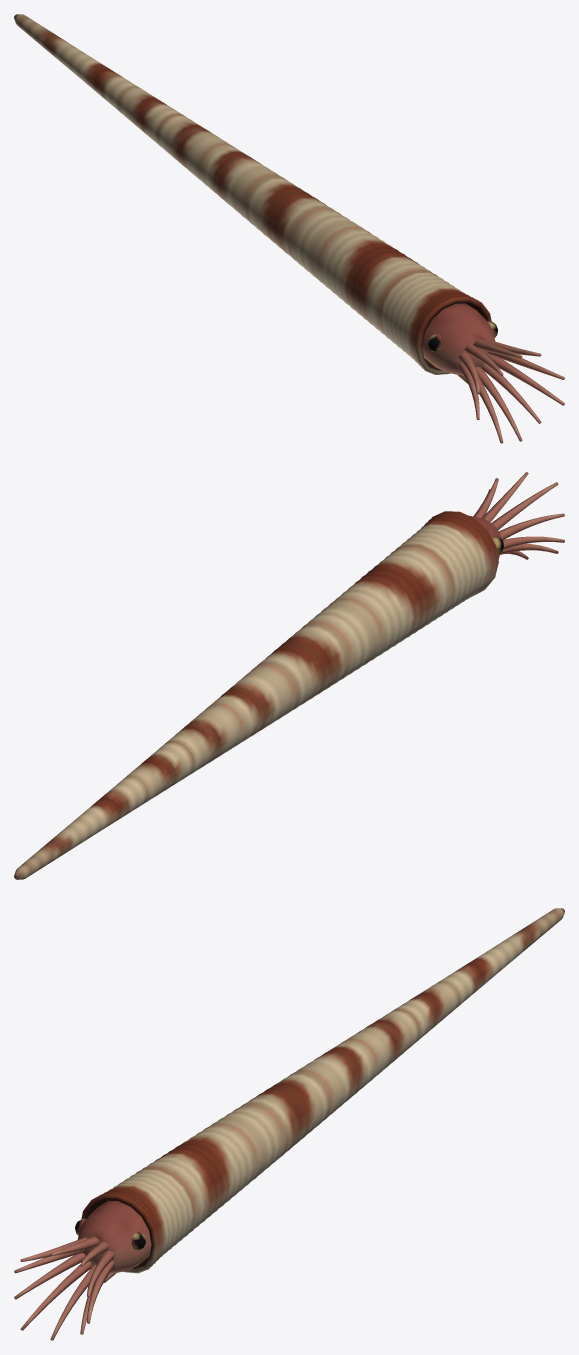
The model's file is Orthoceras.fbx.
3 renders of one model, top to bottom at view 1: azimuth 30°, elevation 25°; view 2: azimuth 150°, elevation 25°; view 3: azimuth 330°, elevation 25°, orthographic.
Visible parts, largest first — view 1: Orthoceras; view 2: Orthoceras; view 3: Orthoceras.
Part boxes in pixels (x1,y1,x2,y2): Orthoceras: (14,14,564,443); Orthoceras: (14,472,564,879); Orthoceras: (14,908,564,1340).
Size of the model in its own units: 0.1877 by 0.2112 by 2.03.
